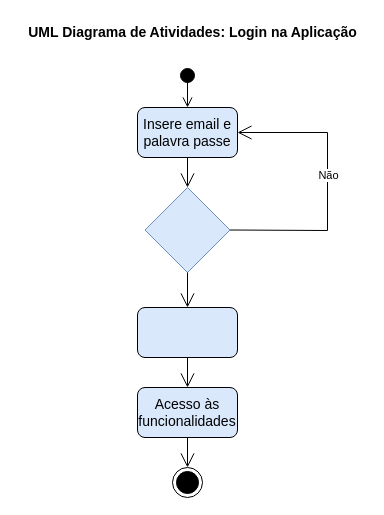
The diagram is 384 pixels wide and 515 high, and some of its shapes have lost their labels. The centre of each missing label's shape, as x and y in pixels:
Login com sucesso: the point at 187,332
Todas as coordenadas corretas?: the point at 187,229
